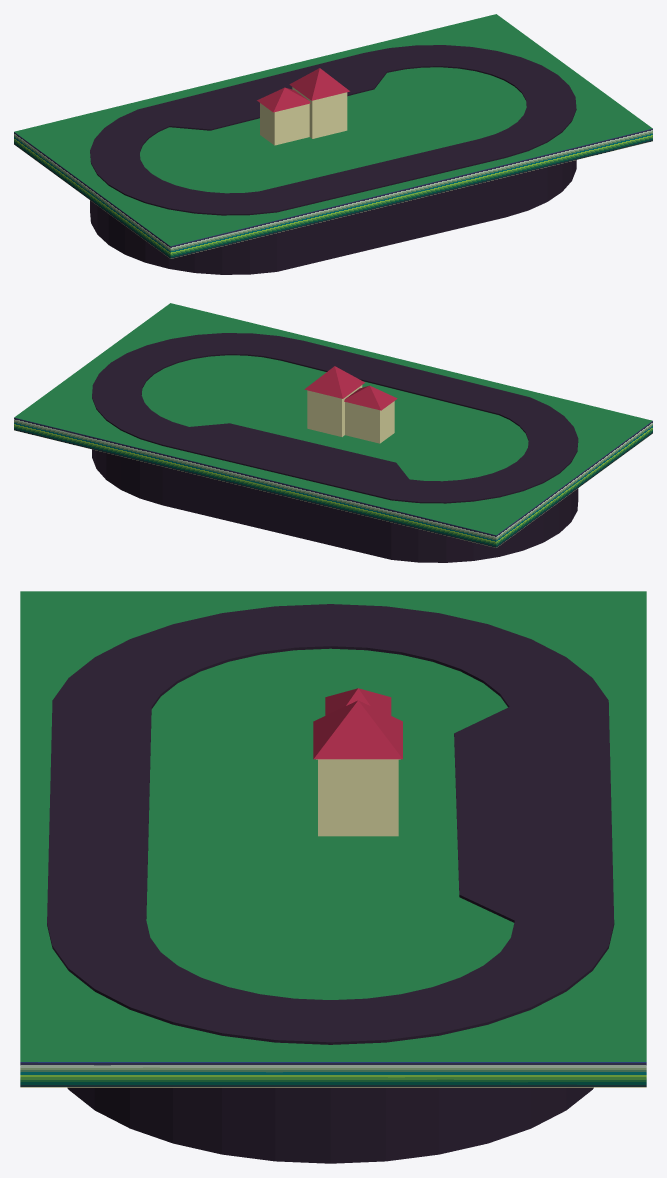
File: racetrack3.obj
3 renders of one model, top to bottom at view 1: azimuth 30°, elevation 25°; view 2: azimuth 150°, elevation 25°; view 3: azimuth 270°, elevation 25°, orthographic. The views are drawn at different scales.
Parts seen in each view (by area): view 1: Cube_Cube.003; view 2: Cube_Cube.003; view 3: Cube_Cube.003.
Part boxes in pixels (x1,y1,x2,y2): Cube_Cube.003: [14, 14, 652, 274]; Cube_Cube.003: [14, 303, 652, 562]; Cube_Cube.003: [20, 591, 646, 1163].
Size of the model in its own units: 66.12 by 15.58 by 37.16.
